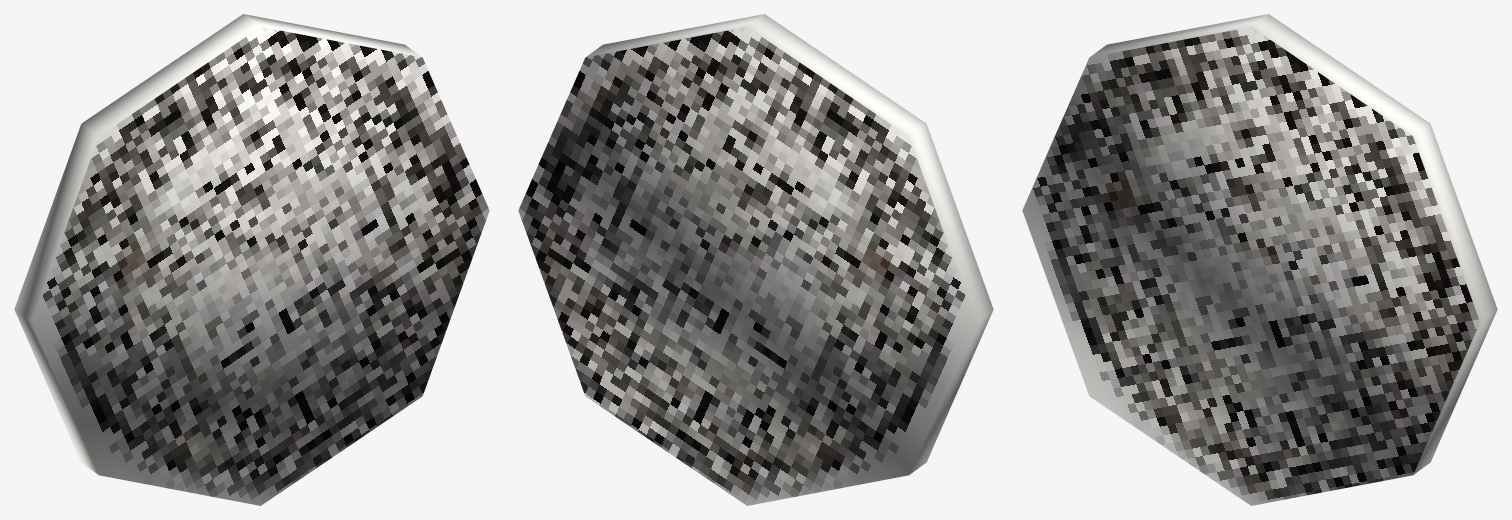
Rendered from aventine_coins_antoninianus.glb.
The picture shows the model from 3 angles, left to right: view 1: azimuth 30°, elevation 25°; view 2: azimuth 150°, elevation 25°; view 3: azimuth 330°, elevation 25°; orthographic projection.
Parts seen in each view (by area): view 1: coin_05_antoninianus; view 2: coin_05_antoninianus; view 3: coin_05_antoninianus.
Boxes of the visible parts, x1=… form: coin_05_antoninianus: x1=14, y1=14, x2=489, y2=505; coin_05_antoninianus: x1=518, y1=14, x2=993, y2=505; coin_05_antoninianus: x1=1022, y1=14, x2=1497, y2=505.
Bounding box in the file's own units: 0.3458 × 0.3458 × 0.023.
1 material, 1 textured.
